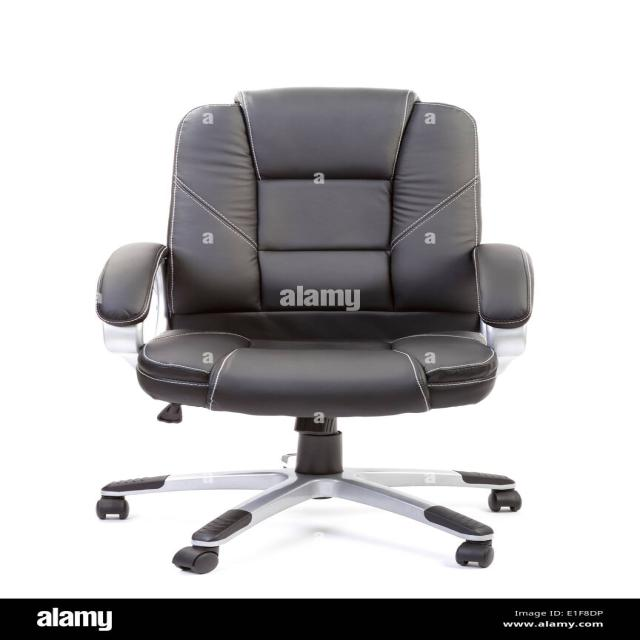chair: (93, 86, 535, 574)
